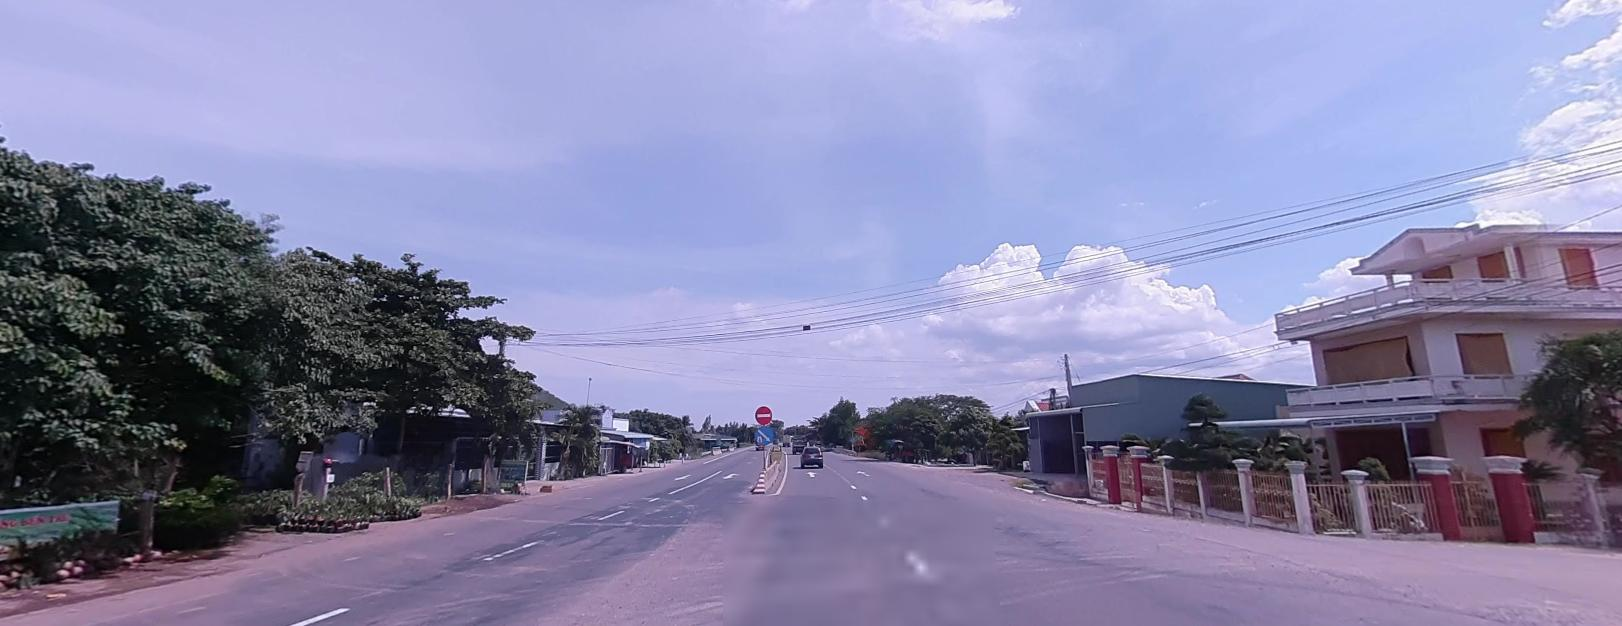Cam nguoc chieu: (754, 404, 771, 423)
Hieu lenh: (753, 424, 775, 444)
